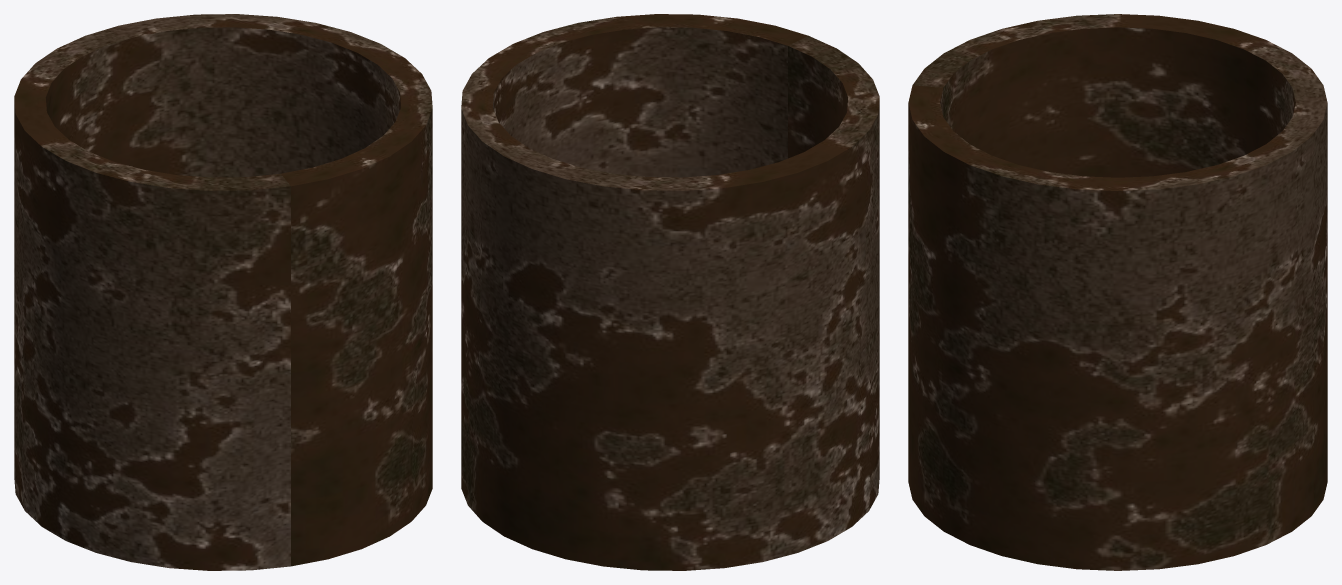
File: duto_metal_old.fbx
3 views of the same model, side by side, from view 1: azimuth 30°, elevation 25°; view 2: azimuth 150°, elevation 25°; view 3: azimuth 270°, elevation 25° (orthographic).
Visible parts, largest first — view 1: Cylinder; view 2: Cylinder; view 3: Cylinder.
Boxes of the visible parts, x1,y1,x2,y2 form: Cylinder: [14, 14, 432, 570]; Cylinder: [461, 14, 879, 570]; Cylinder: [908, 14, 1327, 570].
Size of the model in its own units: 500 by 500 by 500.
